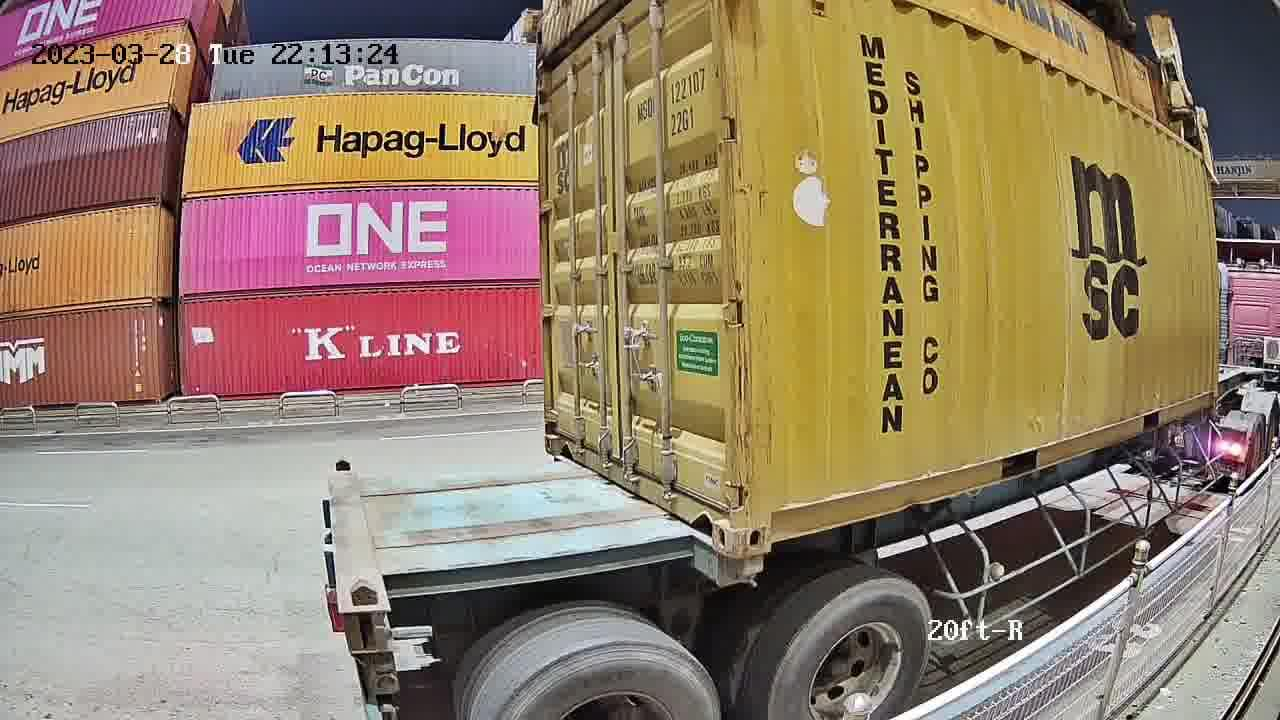Chassis: (554, 458, 770, 586)
Cone: (731, 555, 766, 591)
Hole_L: (737, 487, 792, 559), (544, 414, 578, 462)
Hole_R: (690, 478, 736, 559)
Tire: (766, 580, 931, 713), (488, 636, 719, 715)
